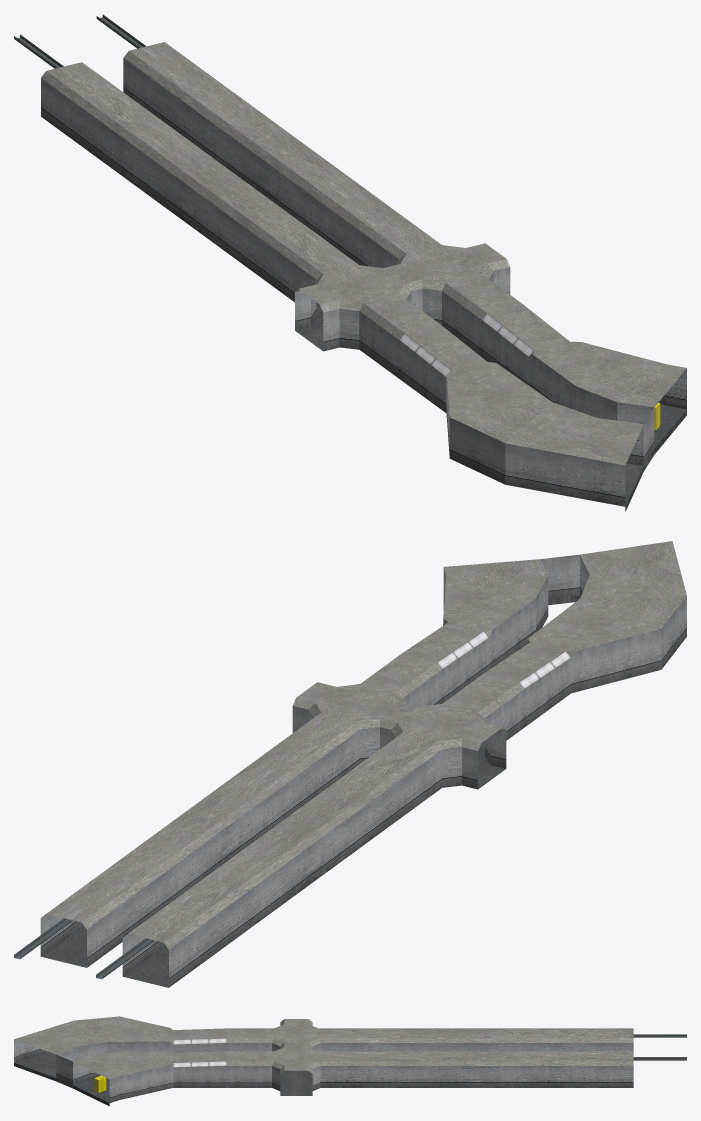
File: lodcarpark_01_sfse.obj
The picture shows the model from 3 angles, top to bottom: view 1: azimuth 30°, elevation 25°; view 2: azimuth 150°, elevation 25°; view 3: azimuth 270°, elevation 25°; orthographic projection. The views are drawn at different scales.
Visible parts, largest first — view 1: LODcarpark_01_SFSe; view 2: LODcarpark_01_SFSe; view 3: LODcarpark_01_SFSe.
Boxes of the visible parts, bbox=[...] form: LODcarpark_01_SFSe: bbox=[14, 14, 686, 511]; LODcarpark_01_SFSe: bbox=[14, 541, 686, 987]; LODcarpark_01_SFSe: bbox=[14, 1016, 686, 1106].
Bounding box in the file's own units: 38.13 × 8.03 × 172.
Materials: 7 (7 with a texture image).
